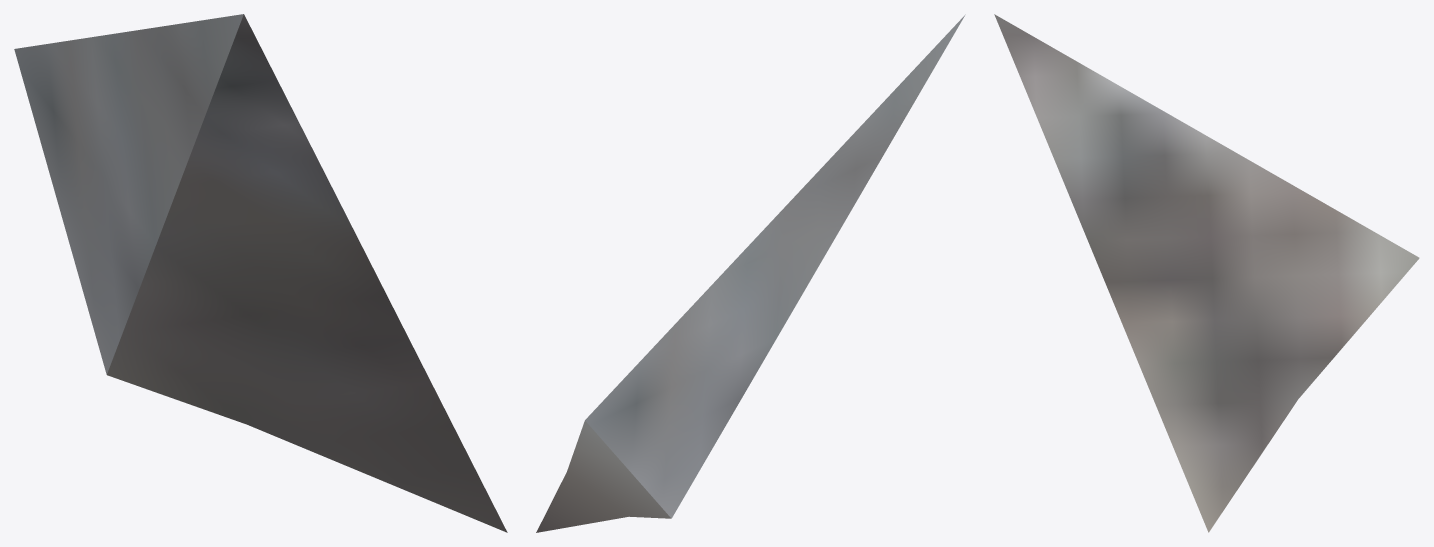
The model's file is Asteroid_Medium_001_02_003_03_005.fbx.
3 views of the same model, side by side, from view 1: azimuth 30°, elevation 25°; view 2: azimuth 150°, elevation 25°; view 3: azimuth 270°, elevation 25° (orthographic). The views are drawn at different scales.
Parts seen in each view (by area): view 1: Asteroid_Medium_001_02_003_03_005; view 2: Asteroid_Medium_001_02_003_03_005; view 3: Asteroid_Medium_001_02_003_03_005.
Boxes of the visible parts, x1,y1,x2,y2 form: Asteroid_Medium_001_02_003_03_005: (14, 14, 507, 532); Asteroid_Medium_001_02_003_03_005: (536, 14, 965, 532); Asteroid_Medium_001_02_003_03_005: (994, 14, 1419, 532).
Bounding box in the file's own units: 0.3231 × 0.5132 × 0.4936.
